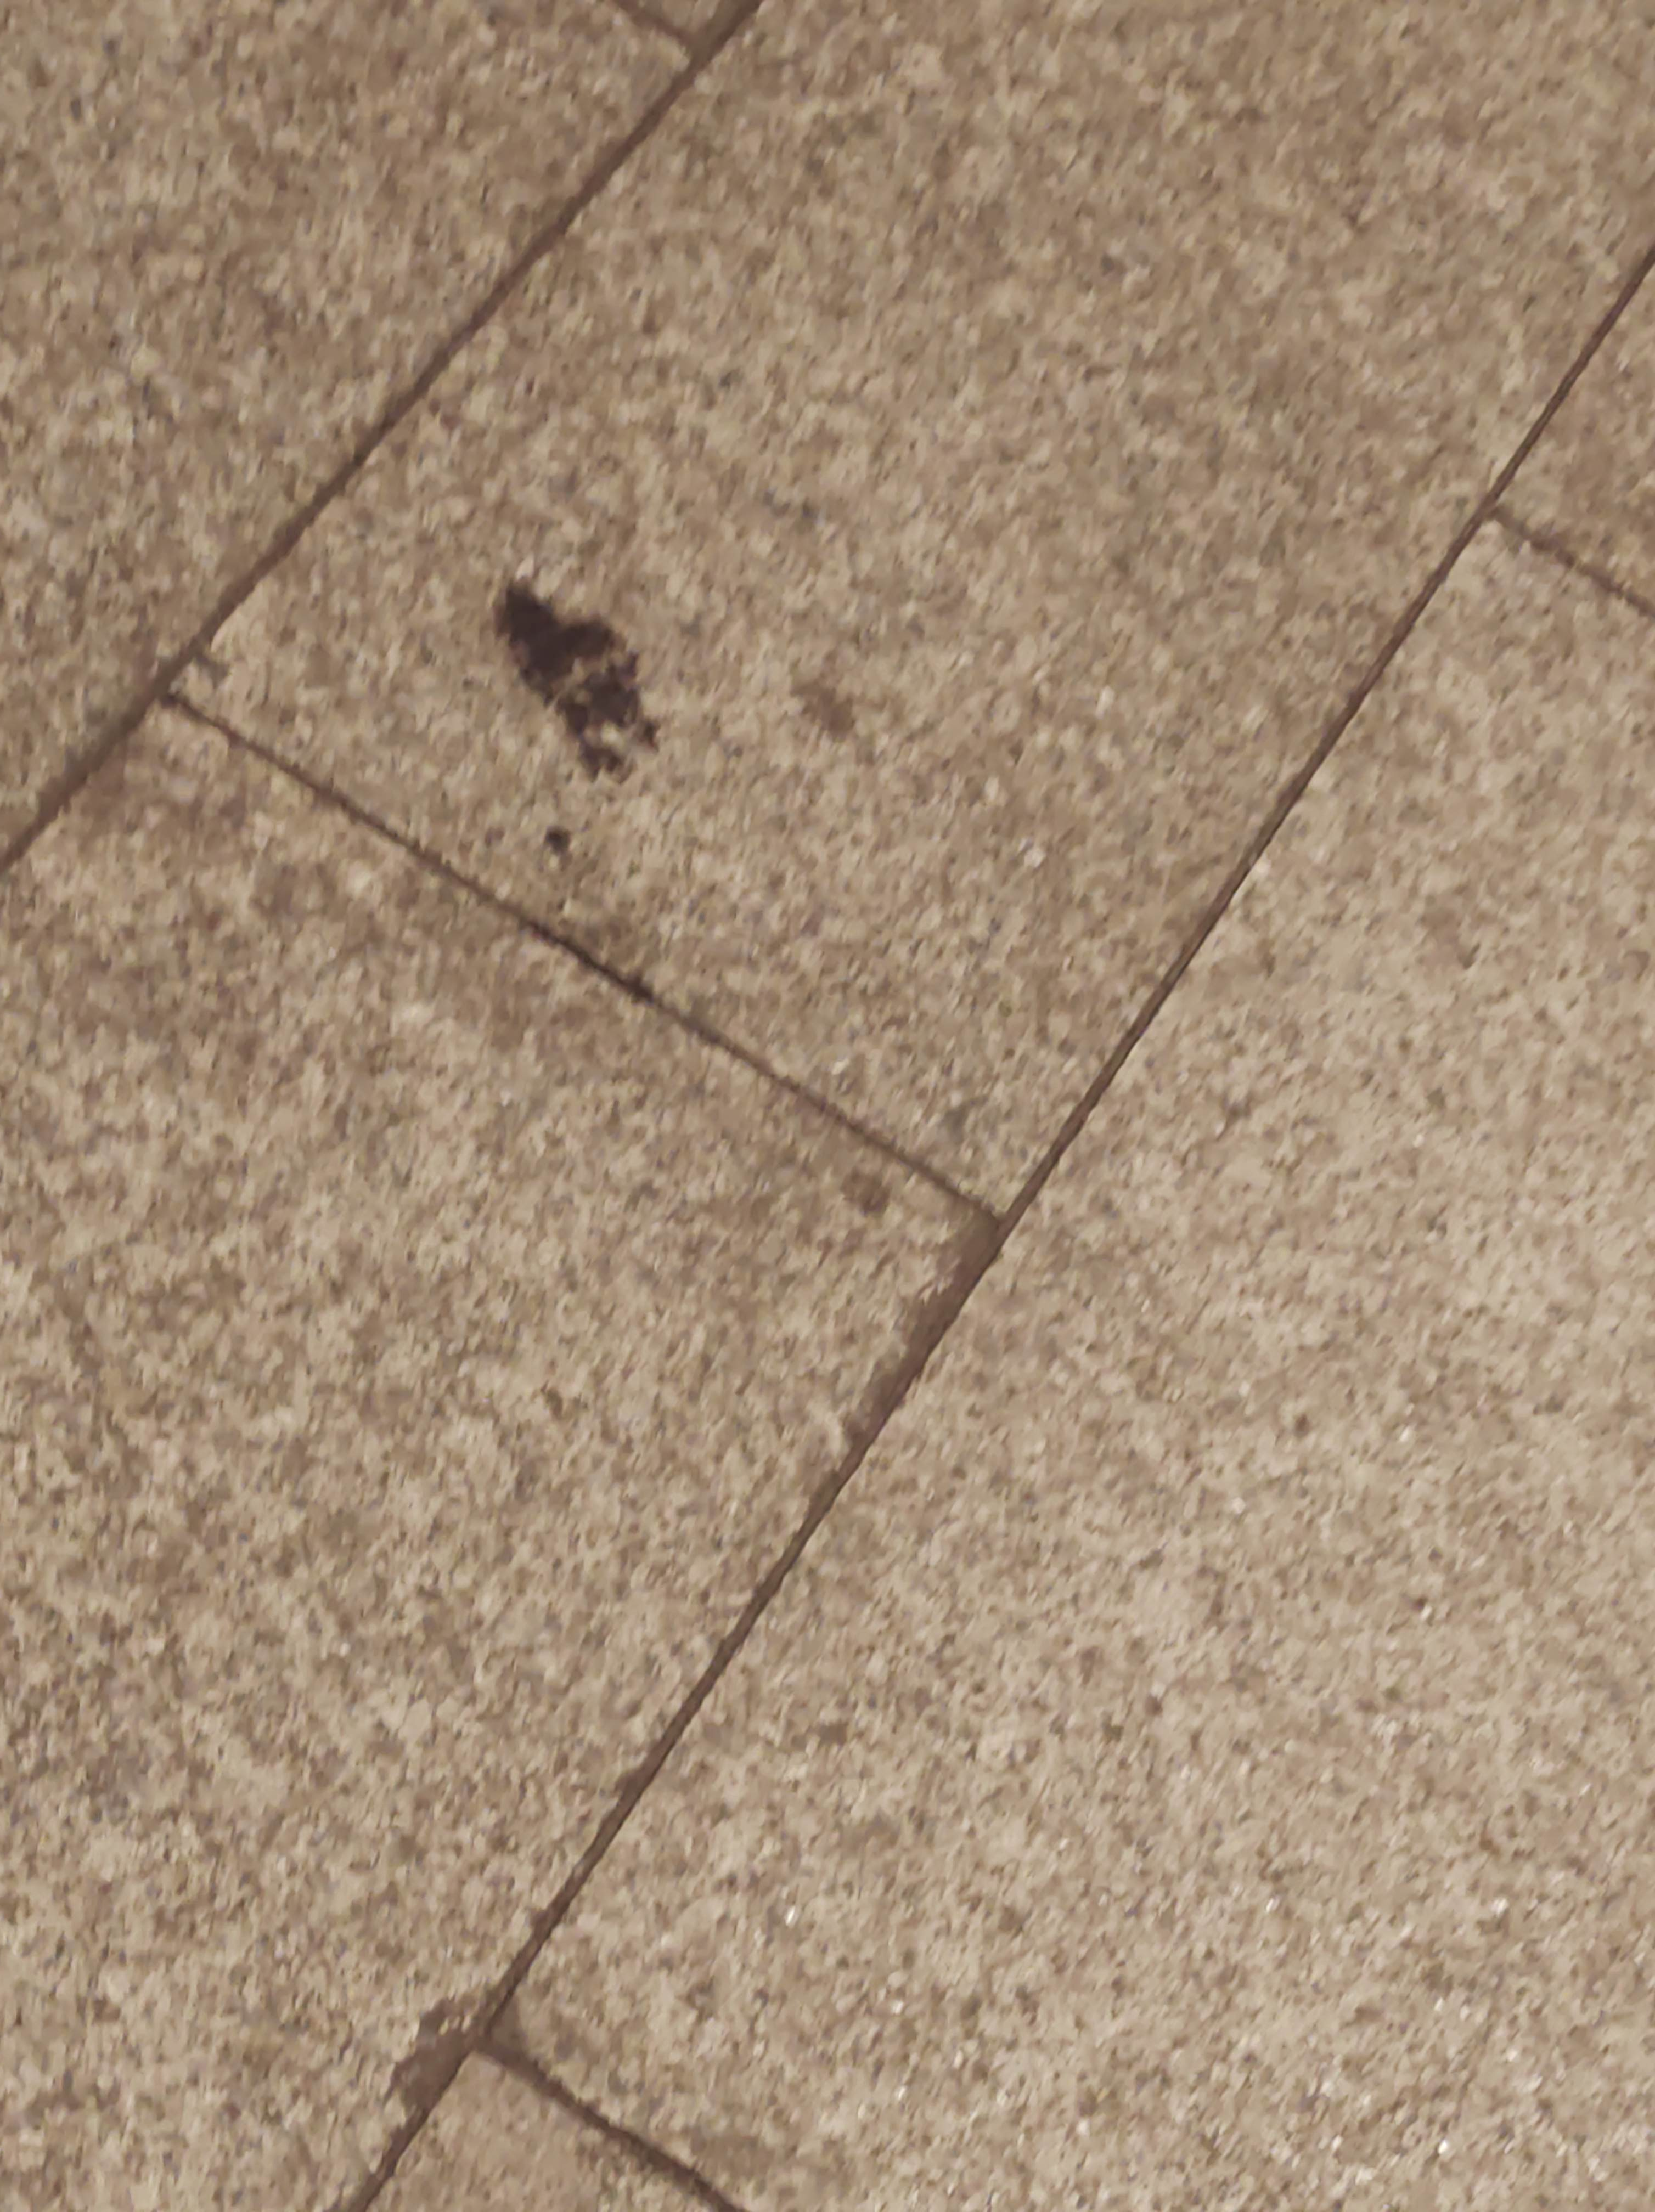grey spot: (489, 582, 661, 784), (789, 674, 857, 738), (843, 1169, 892, 1220)
